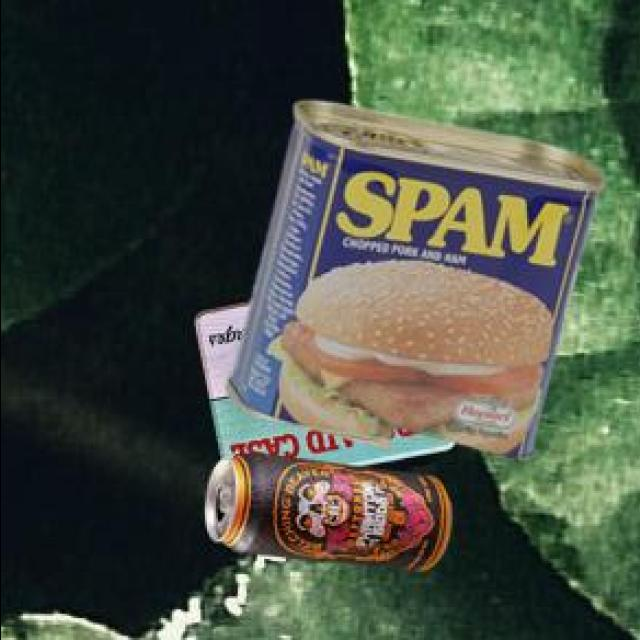logam: (229, 100, 608, 457), (196, 298, 457, 464), (207, 450, 455, 567)
